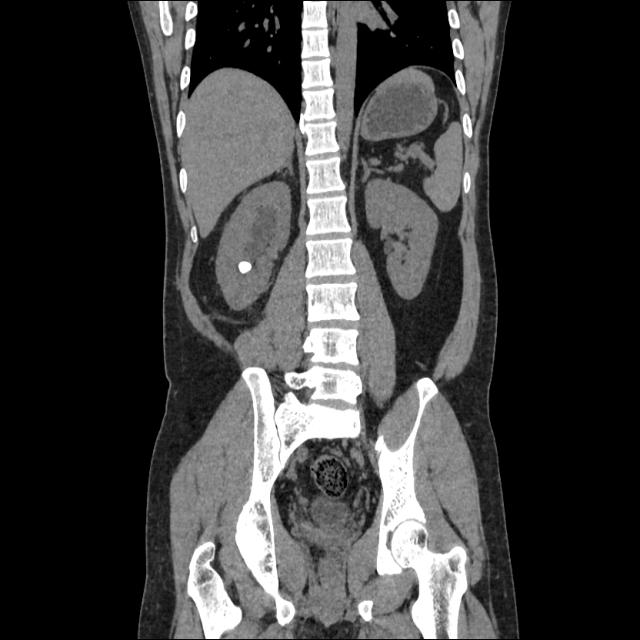kidney: (215, 179, 296, 311), (364, 174, 439, 299)
stone: (238, 258, 254, 273)
